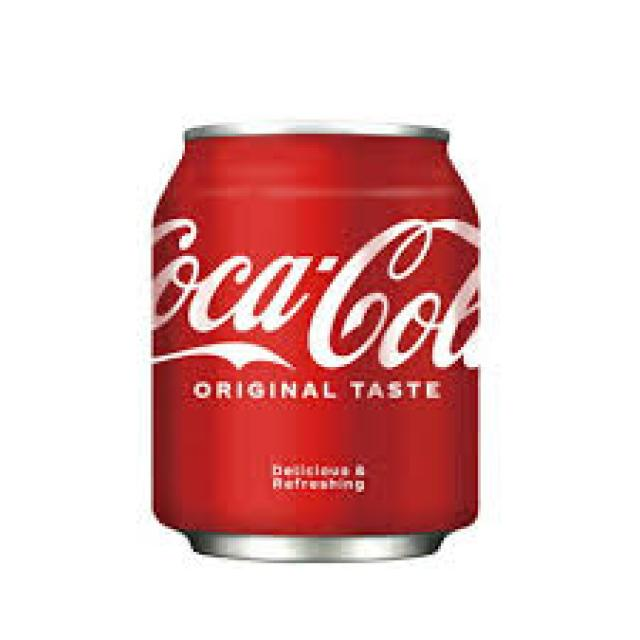aluminum_can: (154, 128, 481, 562)
